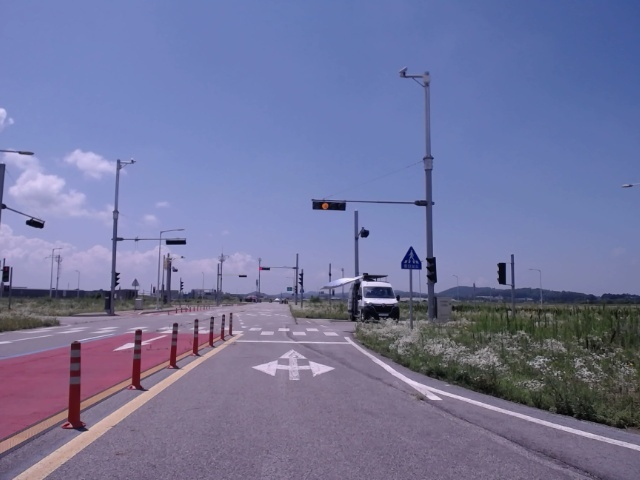orange_4: (311, 200, 346, 210)
